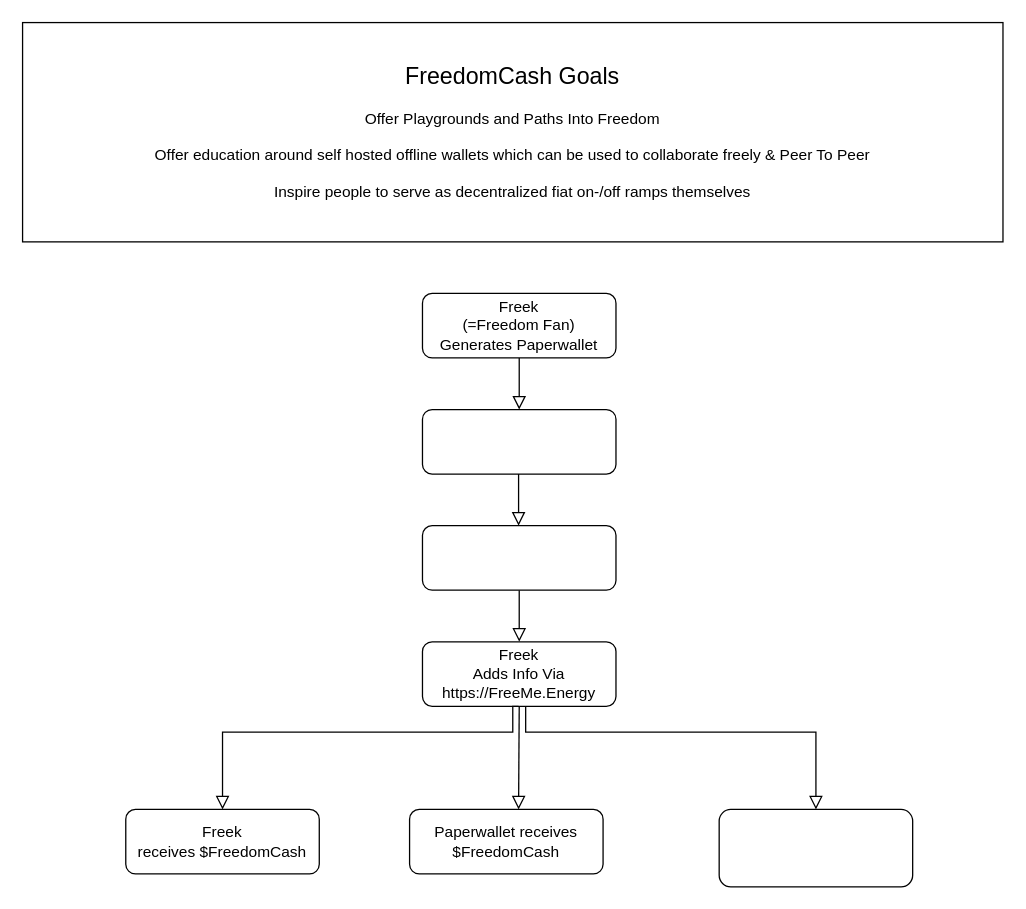
The diagram is 1026 pixels wide and 909 high, and some of its shapes have lost their labels. The centre of each missing label's shape, as x and y in pixels:
"CULT & Ryoshi (worth 369 FREEDOMCASH each) is burned each 369 Write Operations" belongs at (x=815, y=847).
"Freek Hides Paperwallet & Creates Video" belongs at (x=518, y=441).
"Freek Uploades Video on rumble.com" belongs at (x=518, y=557).
